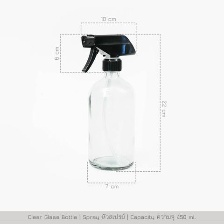bottle: (81, 68, 138, 172)
